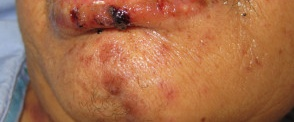SJS-TEN: (44, 0, 222, 122)
